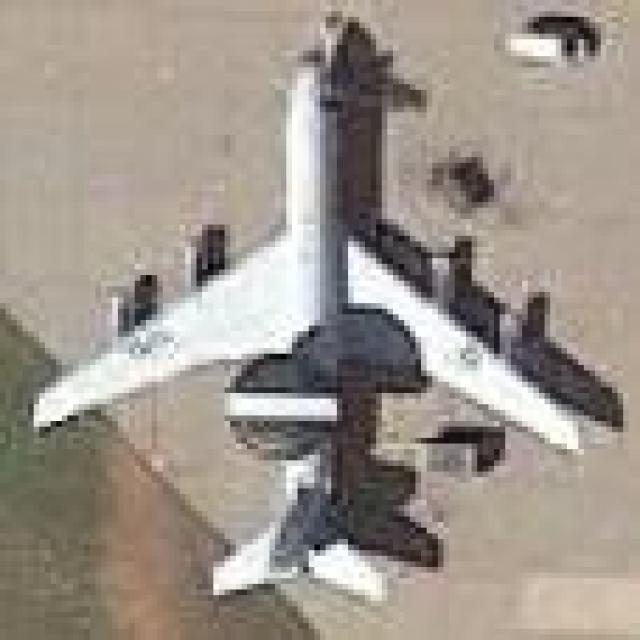E-3_TopDown: (28, 6, 623, 600)
